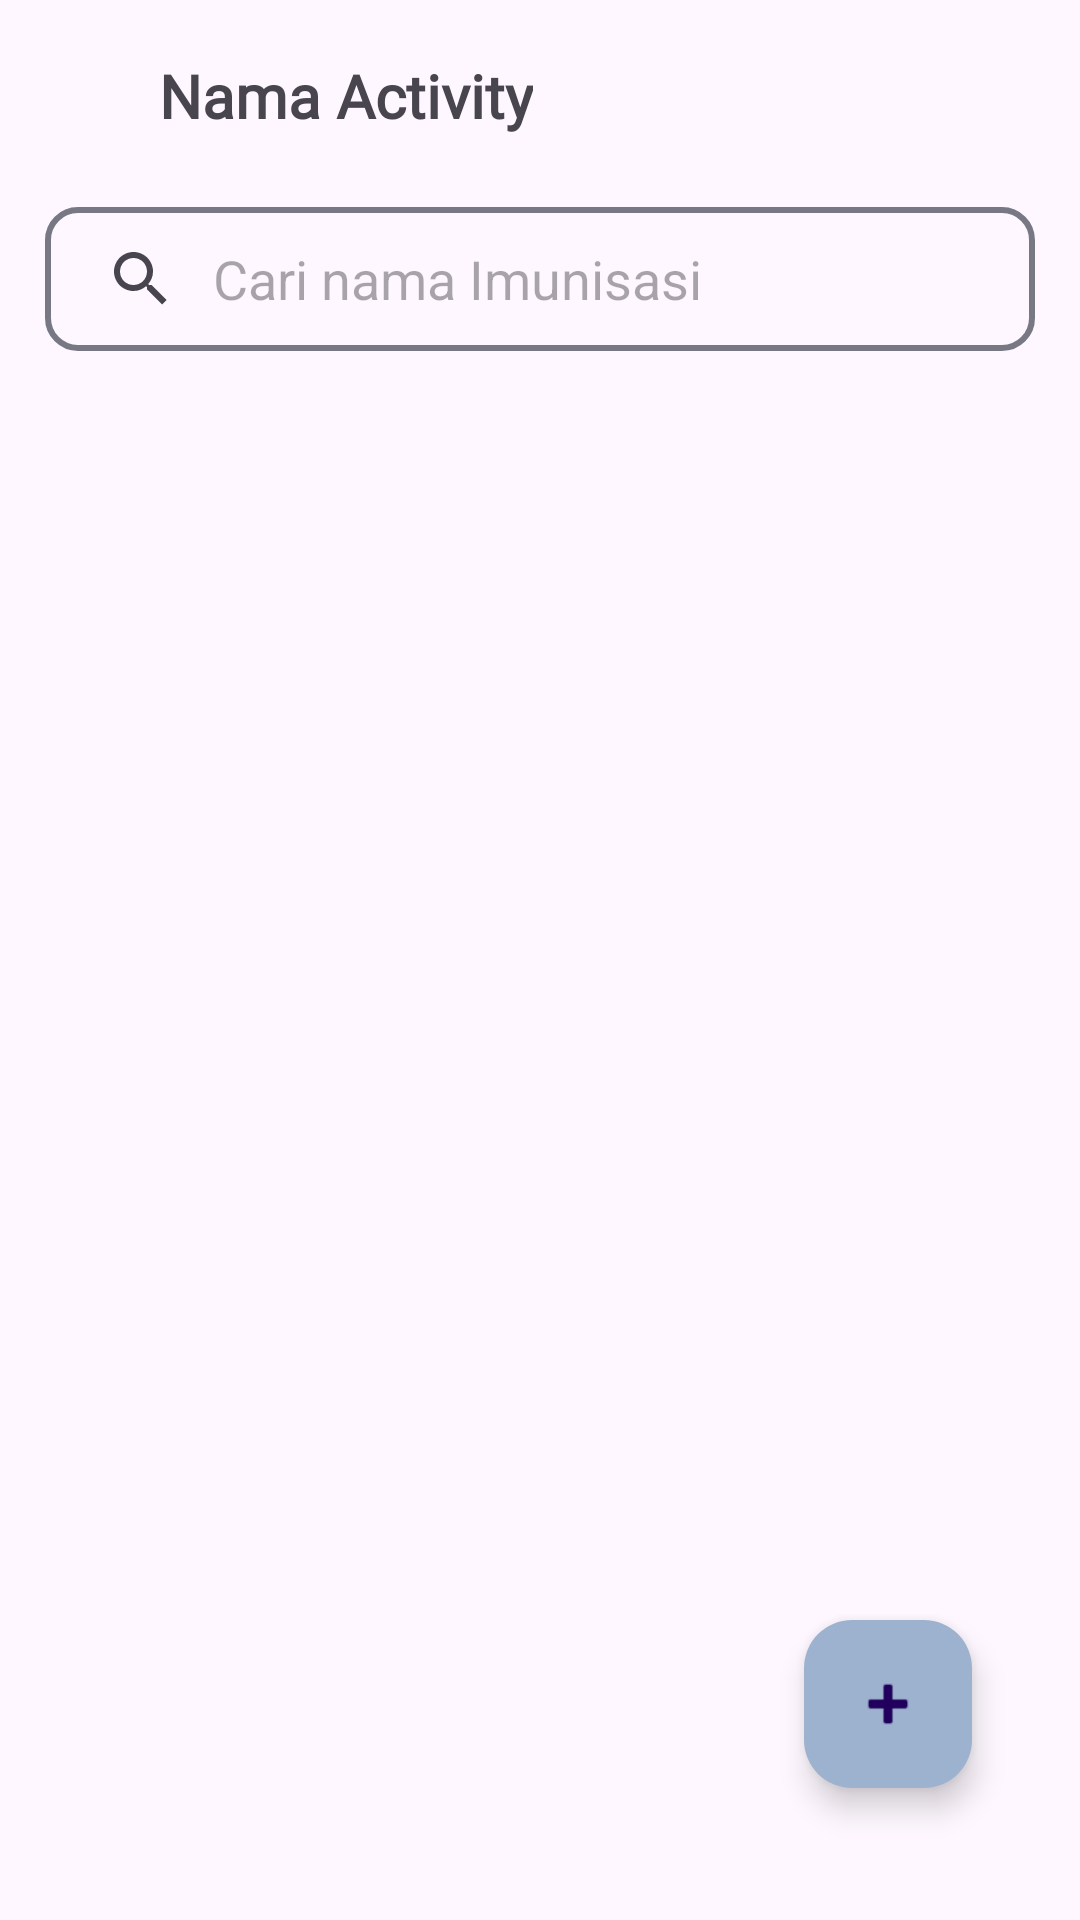

Screen size 1080×1920. Icon name, then its center in pixels as [x,y]:
add: [888,1704]
